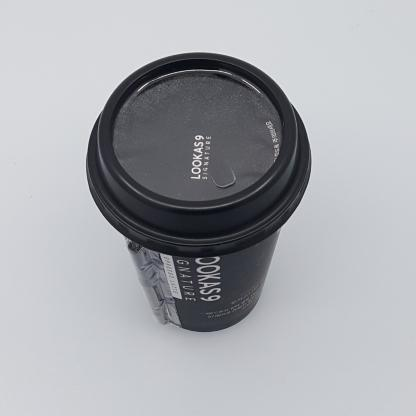-------------: (86, 52, 311, 333)
